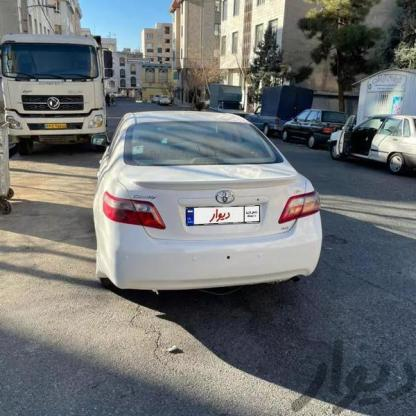Car: (83, 111, 321, 313), (328, 112, 416, 173), (280, 101, 350, 158), (248, 92, 303, 152), (206, 81, 246, 118), (158, 96, 175, 107), (149, 94, 159, 102)
Truck: (0, 30, 109, 146)
